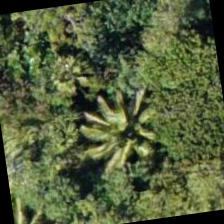Kelapa_Sawit: (63, 89, 165, 191)
